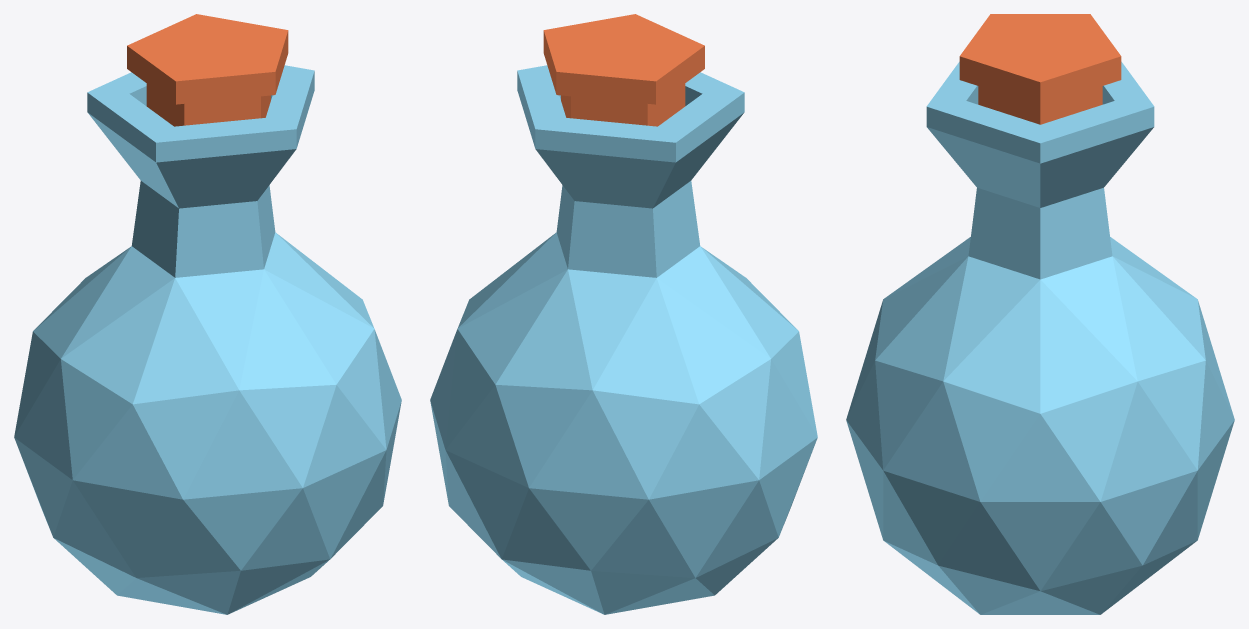
The model's file is bottle_001_grp.fbx.
The picture shows the model from 3 angles, left to right: view 1: azimuth 30°, elevation 25°; view 2: azimuth 150°, elevation 25°; view 3: azimuth 270°, elevation 25°; orthographic projection. The views are drawn at different scales.
Parts seen in each view (by area): view 1: bottle_001_grp; view 2: bottle_001_grp; view 3: bottle_001_grp.
Part boxes in pixels (x1,y1,x2,y2): bottle_001_grp: [14, 14, 401, 614]; bottle_001_grp: [430, 14, 817, 614]; bottle_001_grp: [846, 14, 1234, 614].
Bounding box in the file's own units: 25.01 × 40 × 25.
